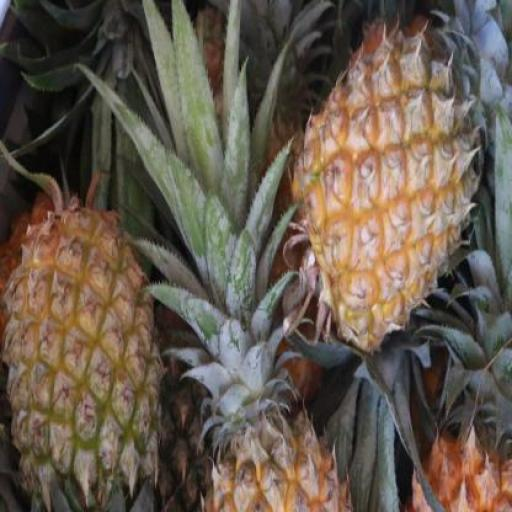------------------------------: (5, 206, 165, 505)
Pineapple - v8 v1: (282, 24, 496, 344), (184, 406, 360, 511)
